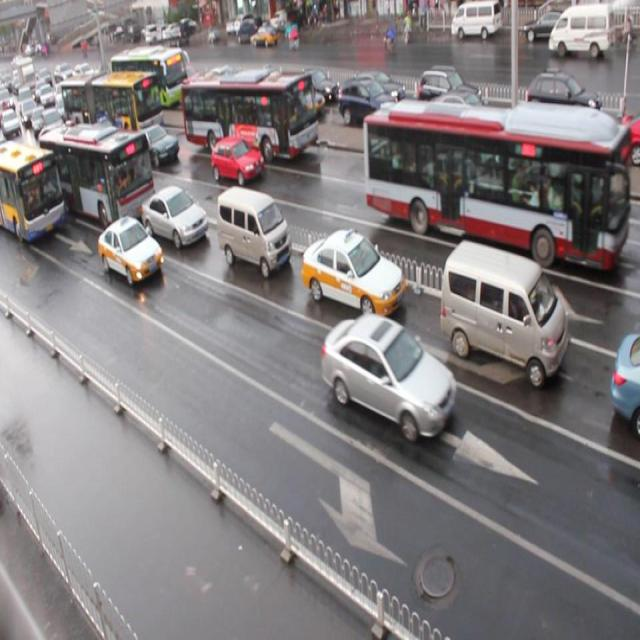car: (321, 312, 457, 441), (300, 228, 404, 321), (98, 214, 164, 286), (141, 185, 208, 250), (210, 135, 265, 184), (136, 125, 179, 169)
truck: (440, 240, 568, 386), (216, 186, 292, 276)
van: (362, 100, 628, 272), (38, 121, 156, 232), (182, 68, 317, 161), (1, 140, 67, 242), (61, 72, 164, 133)
